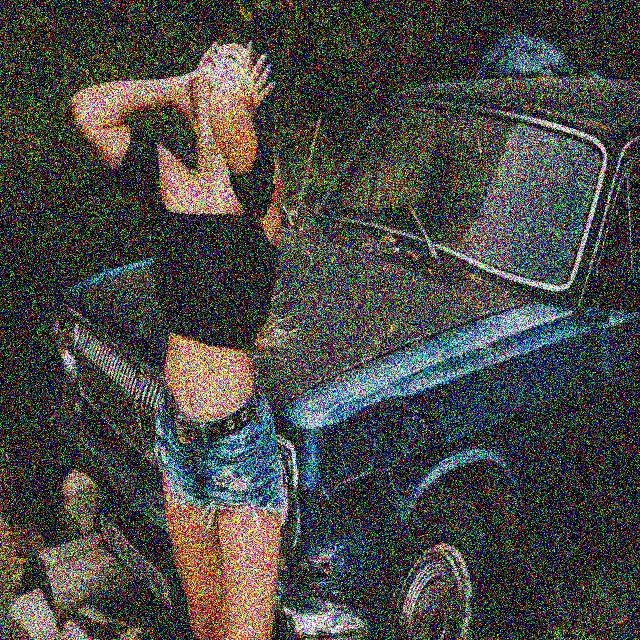Crop_Top: (155, 214, 257, 421)
Shorts: (151, 364, 285, 640)
low_neckline: (156, 142, 256, 350)
